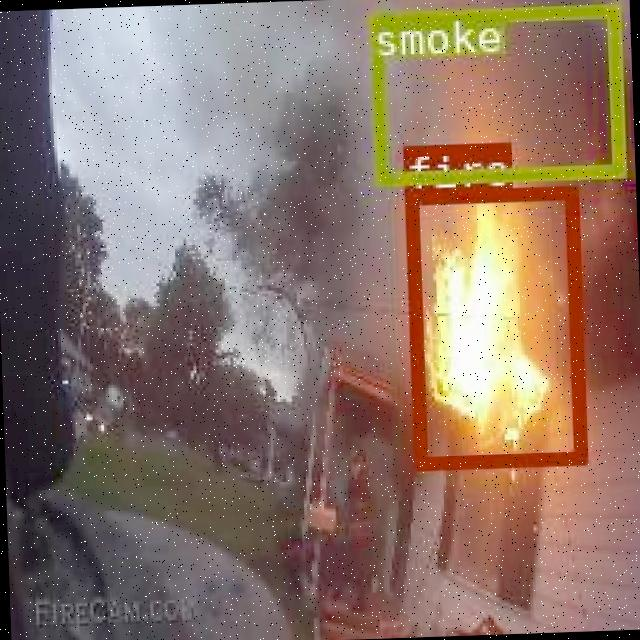fire: (403, 184, 584, 466)
smoke: (368, 2, 622, 182)
